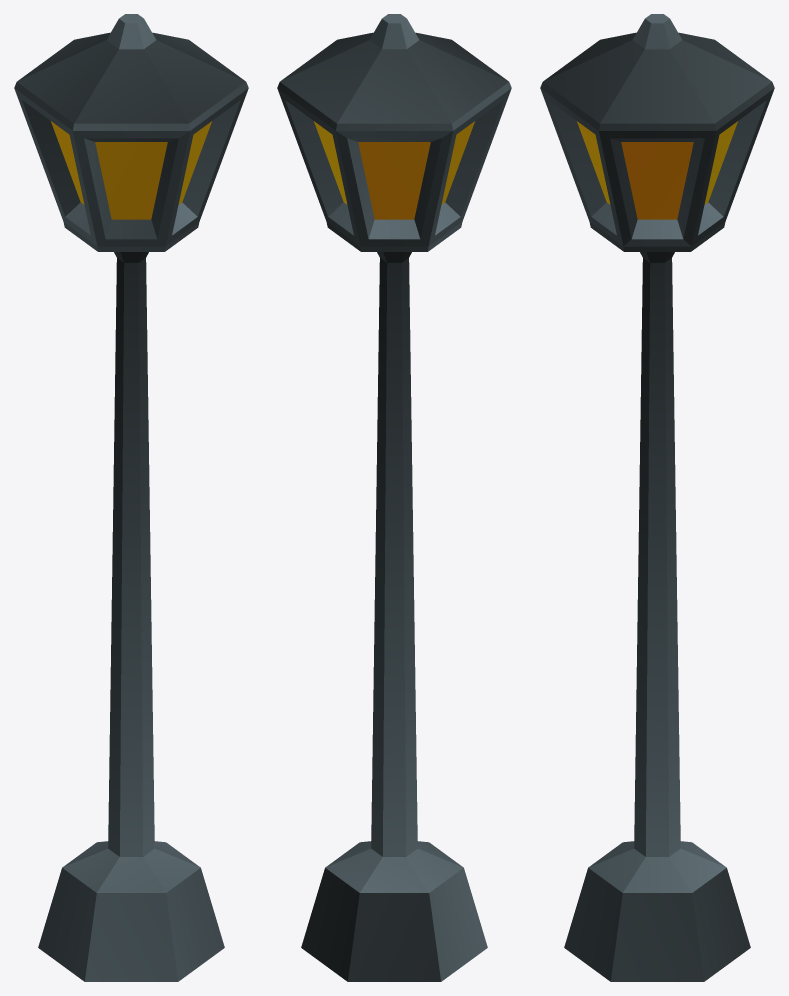
Rendered from LightPole.fbx.
3 views of the same model, side by side, from view 1: azimuth 30°, elevation 25°; view 2: azimuth 150°, elevation 25°; view 3: azimuth 270°, elevation 25° (orthographic).
Visible parts, largest first — view 1: Lightpole_LOD0; view 2: Lightpole_LOD0; view 3: Lightpole_LOD0.
Boxes of the visible parts, x1,y1,x2,y2 form: Lightpole_LOD0: (14,14,248,981); Lightpole_LOD0: (277,14,511,981); Lightpole_LOD0: (540,14,774,981).
Size of what is drawn, in the model's own units: 52.17 by 263 by 60.24.
